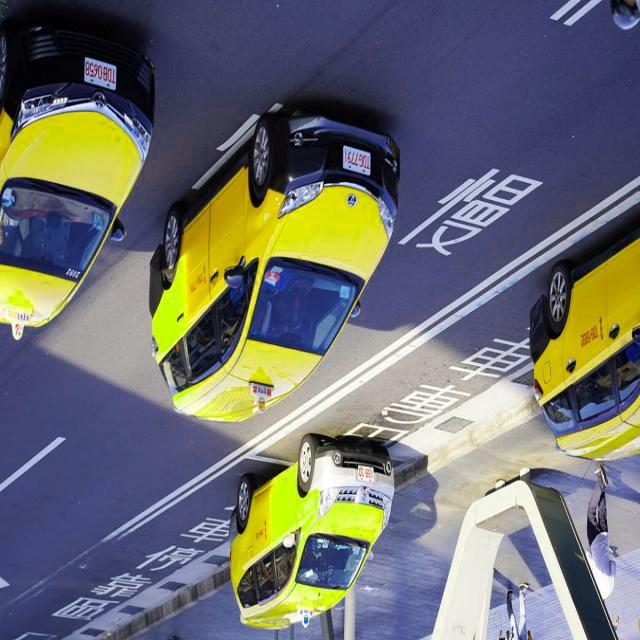taxi: (145, 98, 432, 443), (1, 26, 154, 356), (201, 437, 403, 640), (509, 226, 640, 471)
